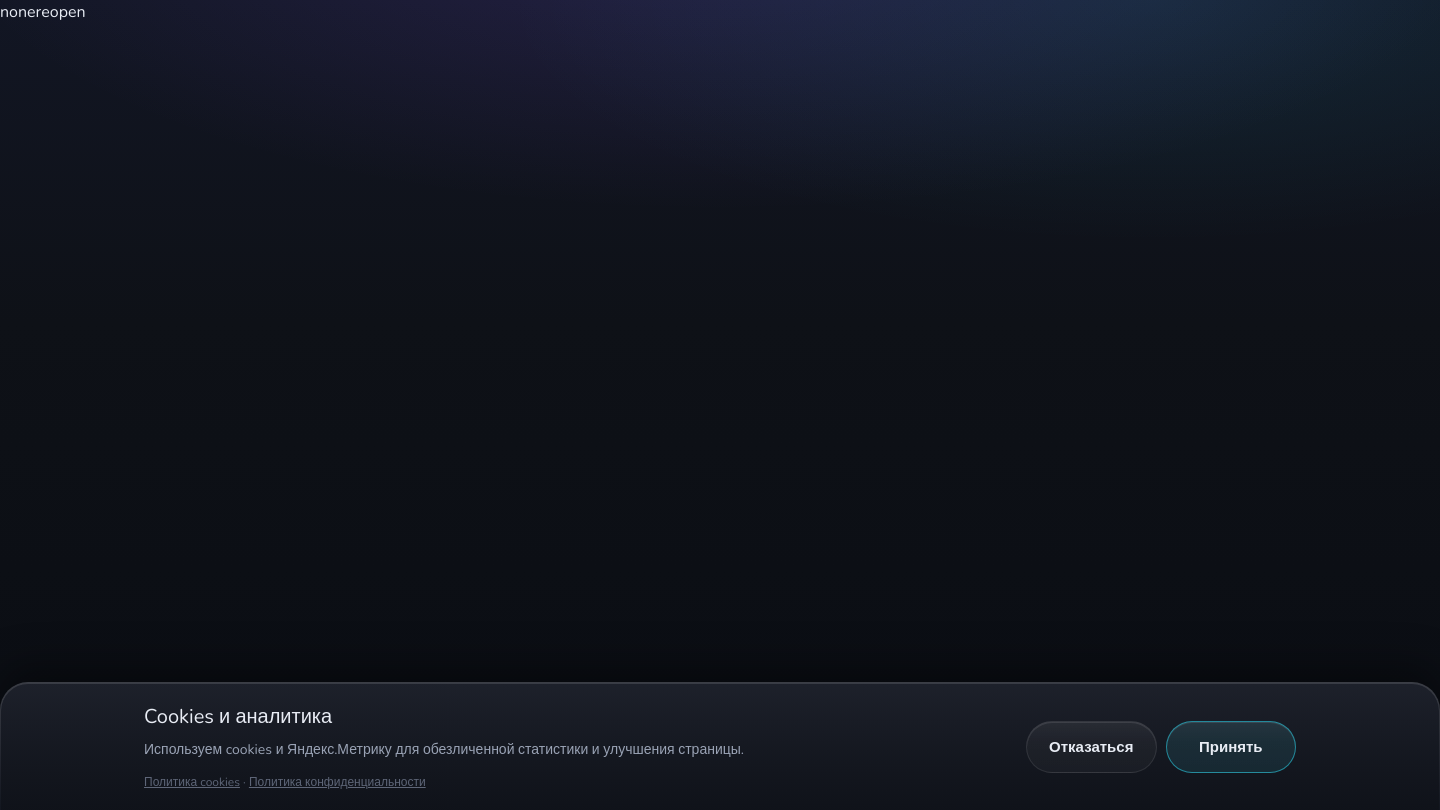
Scenario: ConsentProvider › declines from the banner, persists the decision, and keeps Metrika unmounted
This screenshot has width=1440, height=810.
Check: the text "none" is shown, box [0,1,36,23]
Click the button "Отказаться" at (1091, 747), box [1026,721,1156,773]
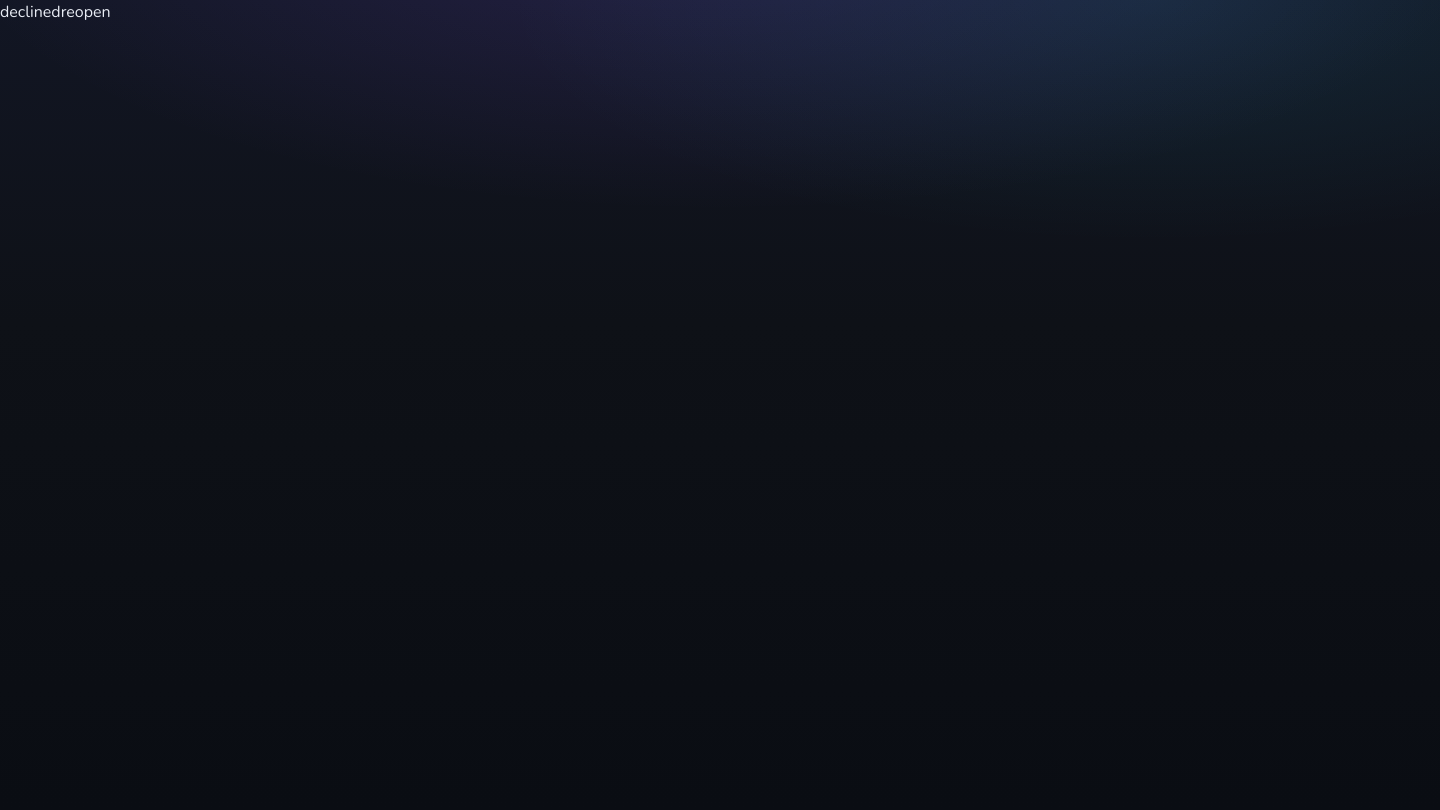
Check: the text "declined" is shown, box [0,1,61,23]
Check: the heading "Cookies и аналитика" is gone
